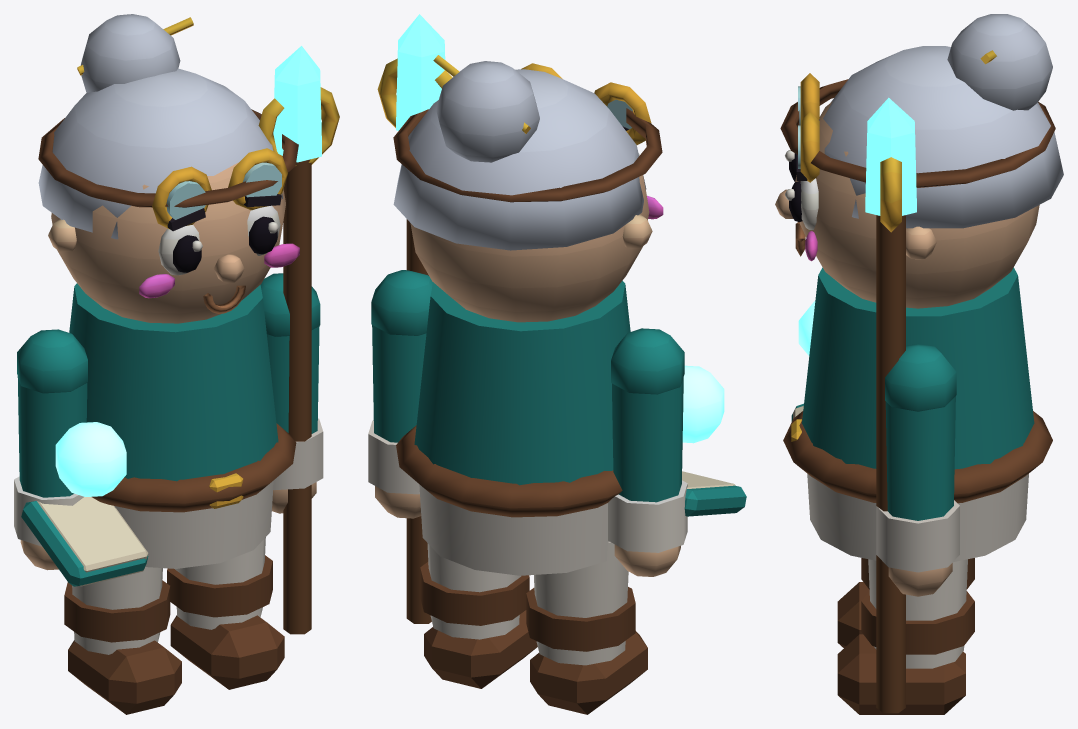
File: hero_helga.glb
The picture shows the model from 3 angles, left to right: view 1: azimuth 30°, elevation 25°; view 2: azimuth 150°, elevation 25°; view 3: azimuth 270°, elevation 25°; orthographic projection. The views are drawn at different scales.
Parts seen in each view (by area): view 1: body_t0_palette, armr_t0_palette, arml_t0_palette, legl_t0_palette, legr_t0_palette, arml_t0_rune, armr_t0_crystal_teal; view 2: body_t0_palette, arml_t0_palette, armr_t0_palette, legl_t0_palette, legr_t0_palette, armr_t0_crystal_teal, arml_t0_rune; view 3: body_t0_palette, armr_t0_palette, legr_t0_palette, armr_t0_crystal_teal, legl_t0_palette, arml_t0_rune.
Boxes of the visible parts, <box> form: body_t0_palette: <box>38,14,299,568</box>; armr_t0_palette: <box>258,87,339,634</box>; arml_t0_palette: <box>14,329,148,586</box>; legl_t0_palette: <box>64,567,181,714</box>; legr_t0_palette: <box>167,537,284,689</box>; arml_t0_rune: <box>55,422,126,496</box>; armr_t0_crystal_teal: <box>273,46,321,162</box>; body_t0_palette: <box>393,55,663,575</box>; arml_t0_palette: <box>608,328,746,576</box>; armr_t0_palette: <box>368,58,452,623</box>; legl_t0_palette: <box>526,542,647,714</box>; legr_t0_palette: <box>420,543,537,688</box>; armr_t0_crystal_teal: <box>396,14,445,130</box>; arml_t0_rune: <box>682,365,724,443</box>; body_t0_palette: <box>775,14,1063,562</box>; armr_t0_palette: <box>876,157,959,713</box>; legr_t0_palette: <box>837,559,974,714</box>; armr_t0_crystal_teal: <box>865,97,916,215</box>; legl_t0_palette: <box>837,558,974,647</box>; arml_t0_rune: <box>798,301,815,356</box>.
Bounding box in the file's own units: 0.281 × 0.54 × 0.214.
